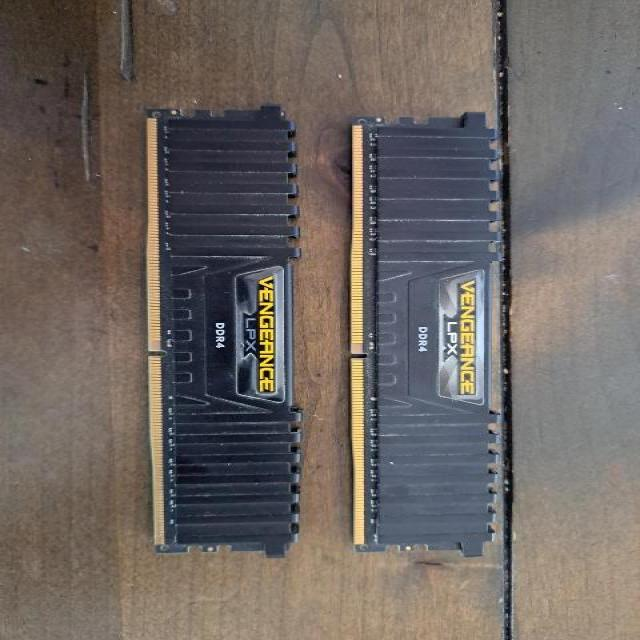RAM: (146, 103, 306, 559), (347, 110, 504, 559)
